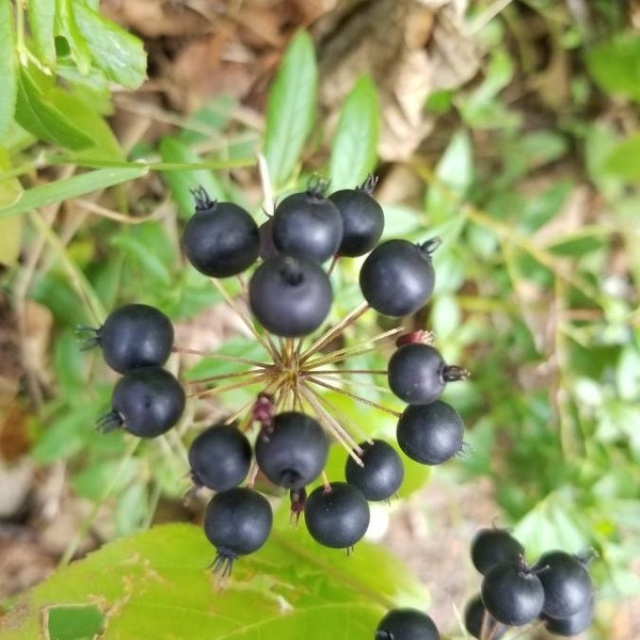obstacle: (64, 82, 491, 595)
